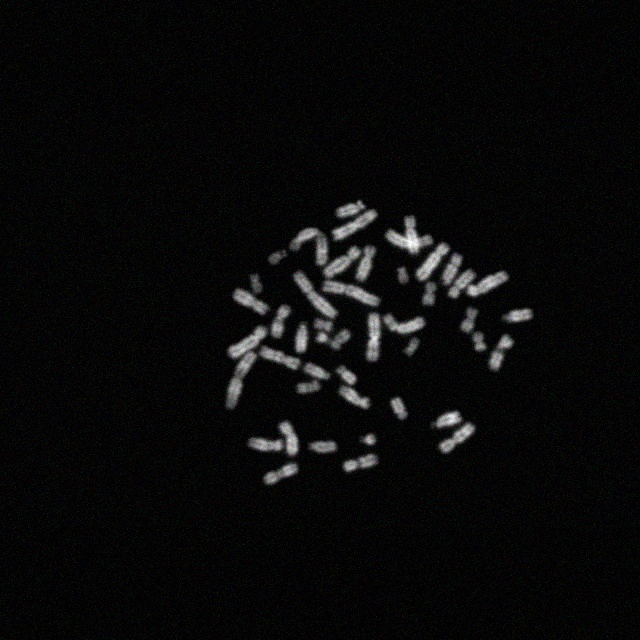chromosome: (294, 272, 338, 318), (224, 352, 256, 408), (322, 280, 380, 306), (290, 228, 328, 264), (332, 209, 376, 239), (416, 242, 449, 280), (324, 246, 362, 278), (228, 326, 266, 358), (440, 422, 474, 453), (468, 272, 508, 296), (232, 289, 268, 315), (259, 346, 299, 369), (386, 230, 432, 250), (489, 334, 513, 370), (384, 312, 424, 333), (448, 268, 474, 298), (356, 245, 376, 282), (340, 385, 370, 409), (264, 462, 298, 483), (442, 252, 462, 286), (280, 420, 298, 456), (366, 313, 379, 361), (344, 453, 378, 471), (272, 306, 290, 338), (248, 438, 284, 452), (406, 214, 418, 254), (336, 201, 364, 217), (337, 365, 358, 385), (304, 363, 330, 379), (436, 412, 462, 428), (330, 330, 350, 350), (461, 308, 477, 332), (392, 396, 408, 419), (309, 441, 337, 454), (296, 322, 308, 352), (504, 310, 532, 322), (404, 336, 420, 356), (298, 379, 320, 393), (422, 283, 436, 305), (268, 250, 286, 264), (250, 274, 262, 294), (314, 319, 332, 331), (474, 333, 486, 351), (398, 266, 408, 284), (362, 435, 376, 445), (316, 332, 329, 342)
